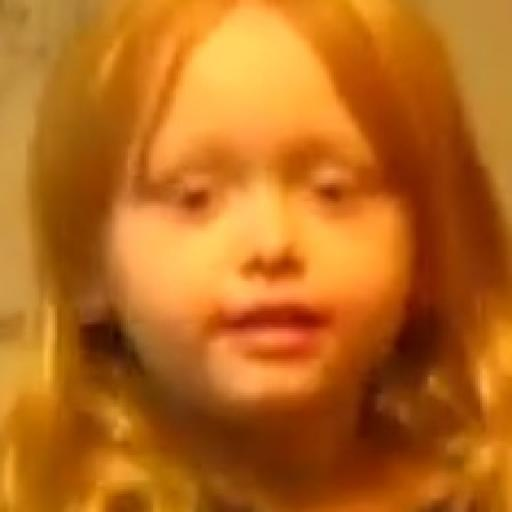Autism: (50, 32, 512, 449)
